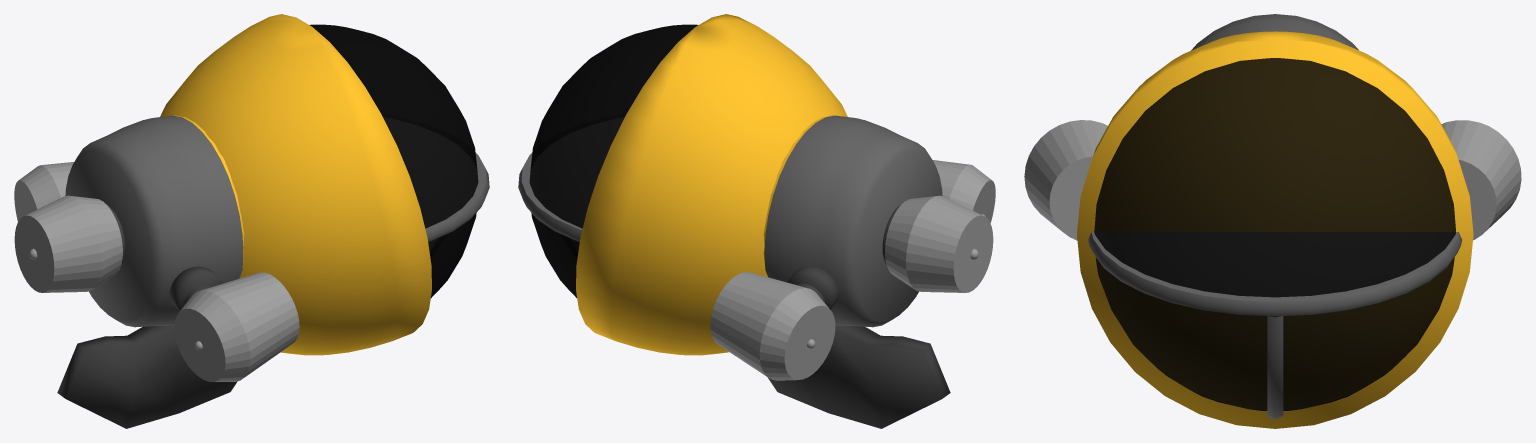
The model's file is Submarine.glb.
The picture shows the model from 3 angles, left to right: view 1: azimuth 30°, elevation 25°; view 2: azimuth 150°, elevation 25°; view 3: azimuth 270°, elevation 25°; orthographic projection. The views are drawn at different scales.
Parts seen in each view (by area): view 1: Cylinder.002; view 2: Cylinder.002; view 3: Cylinder.002.
Part boxes in pixels (x1,y1,x2,y2): Cylinder.002: (14, 14, 489, 428); Cylinder.002: (518, 14, 995, 428); Cylinder.002: (1024, 14, 1521, 428).
Size of the model in its own units: 3.15 by 2.42 by 2.69.
